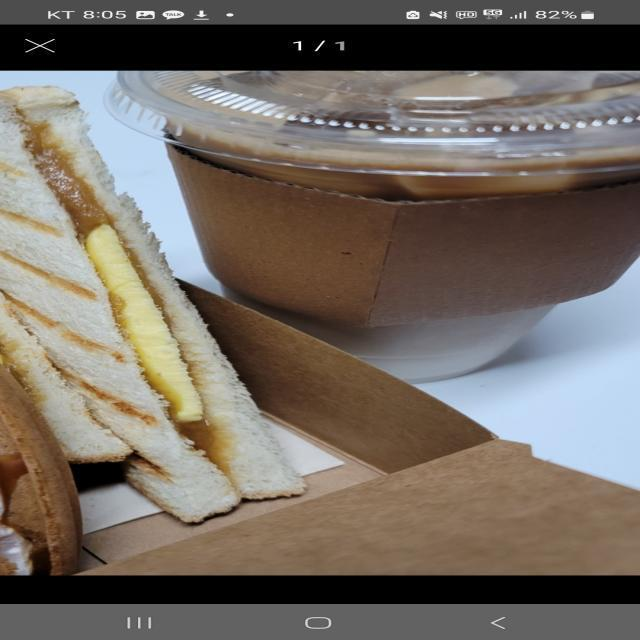cup: (101, 64, 640, 382)
